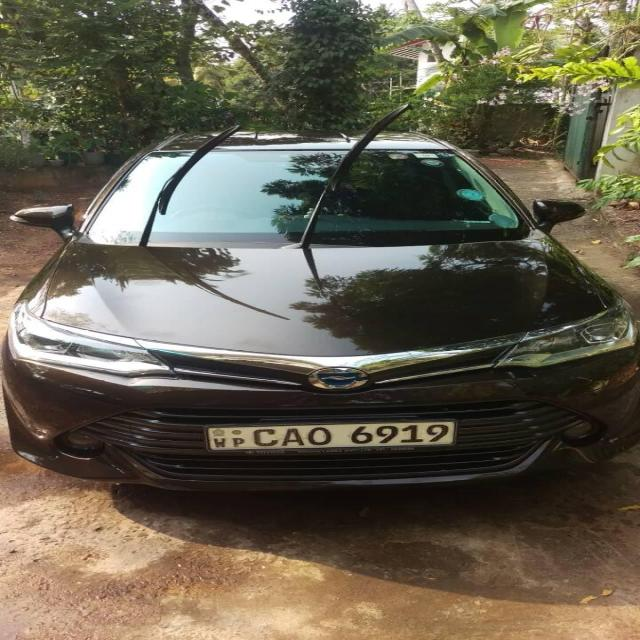license-plate: (203, 424, 457, 450)
